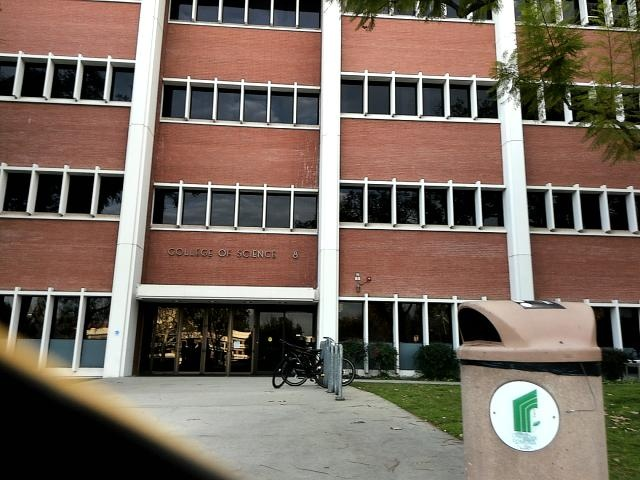trashcan: (443, 290, 616, 480)
